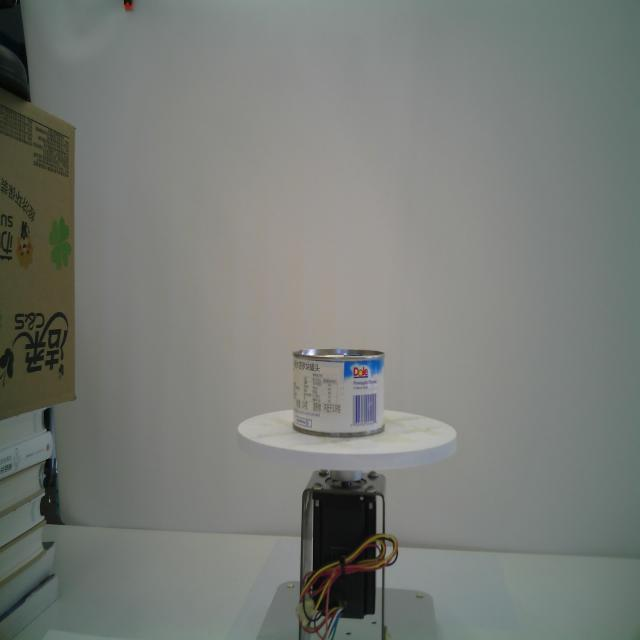retail-product-customer: (292, 348, 388, 438)
